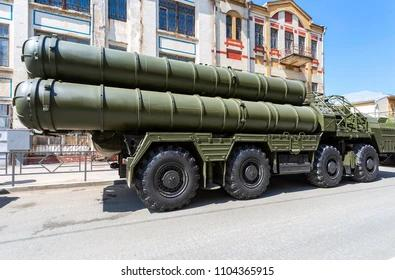MIL_SAM_TEL: (18, 31, 395, 213)
